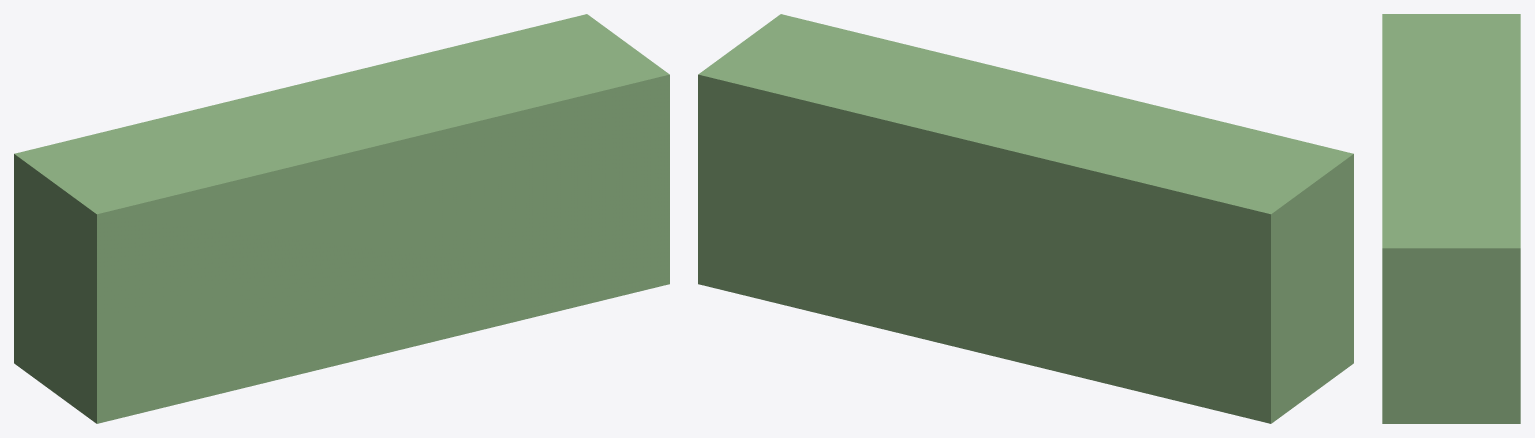
Rendered from hedge_wall.glb.
The picture shows the model from 3 angles, left to right: view 1: azimuth 30°, elevation 25°; view 2: azimuth 150°, elevation 25°; view 3: azimuth 270°, elevation 25°; orthographic projection. The views are drawn at different scales.
Visible parts, largest first — view 1: hedge; view 2: hedge; view 3: hedge.
Boxes of the visible parts, x1,y1,x2,y2 form: hedge: [14, 14, 669, 423]; hedge: [698, 14, 1353, 423]; hedge: [1382, 14, 1520, 423].
Bounding box in the file's own units: 4 × 1.4 × 1.
